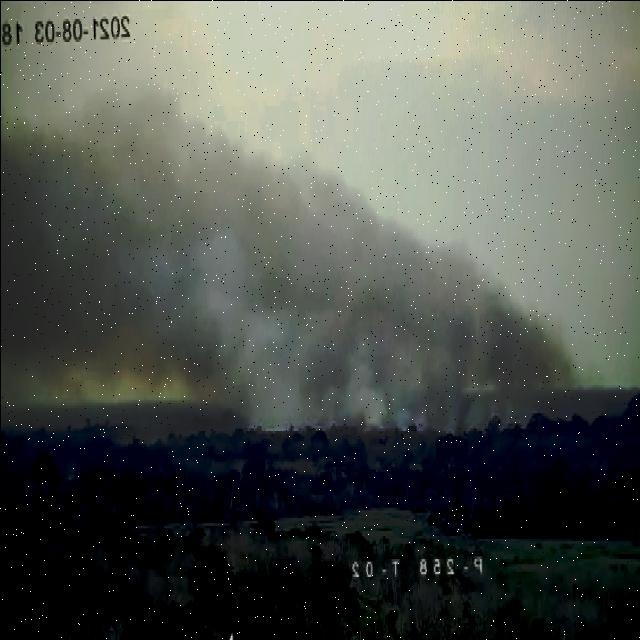asap: (1, 67, 586, 446)
